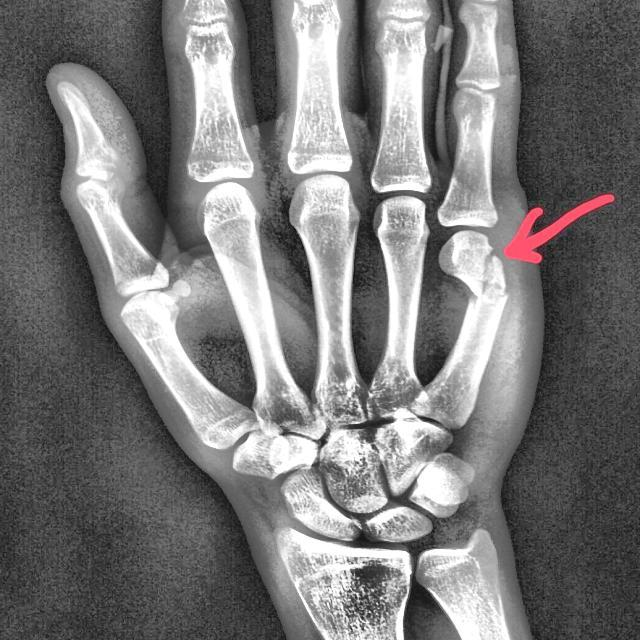fracture: (462, 248, 512, 314)
